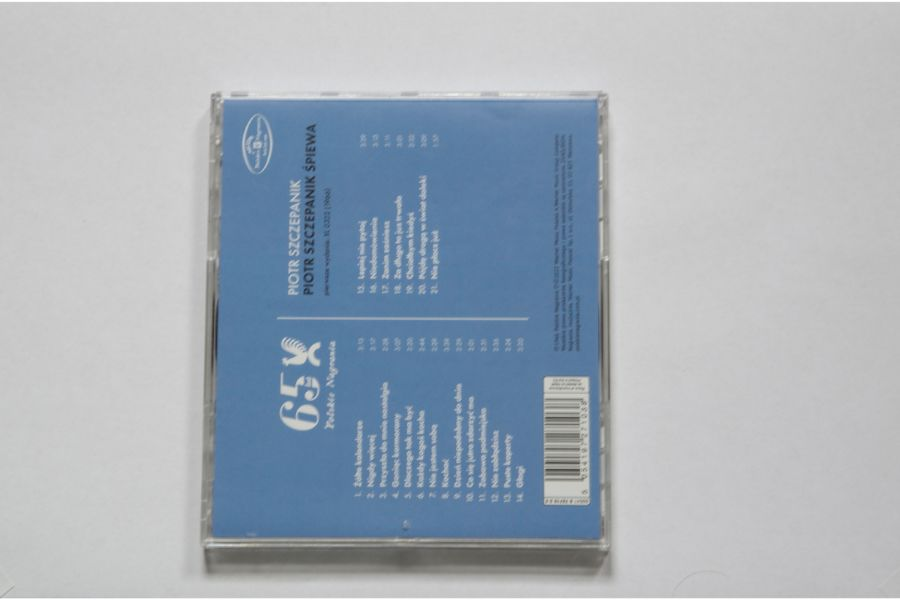album: (199, 88, 613, 558)
